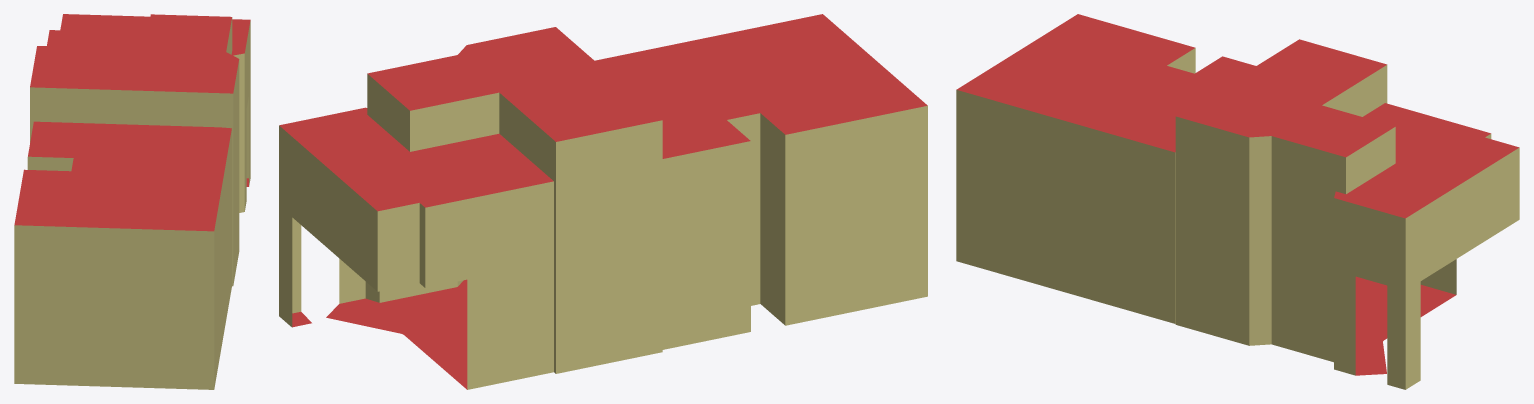
3 renders of one model, left to right at view 1: azimuth 30°, elevation 25°; view 2: azimuth 150°, elevation 25°; view 3: azimuth 270°, elevation 25°, orthographic. The views are drawn at different scales.
Visible parts, largest first — view 1: group_7, group_6, group_3, group_4; view 2: group_7, group_6, group_4, group_3, group_5, group_8; view 3: group_7, group_4, group_6, group_3, group_8, group_5.
Boxes of the visible parts, left/top/right/bottom form: group_7: left=14, top=20, right=250, bottom=389; group_6: left=14, top=14, right=250, bottom=231; group_3: left=30, top=14, right=239, bottom=93; group_4: left=30, top=17, right=239, bottom=286; group_7: left=279, top=105, right=927, bottom=389; group_6: left=279, top=14, right=927, bottom=211; group_4: left=367, top=74, right=662, bottom=373; group_3: left=367, top=27, right=662, bottom=141; group_5: left=367, top=279, right=467, bottom=342; group_8: left=292, top=298, right=467, bottom=389; group_7: left=956, top=48, right=1519, bottom=389; group_4: left=1175, top=65, right=1395, bottom=362; group_6: left=956, top=14, right=1519, bottom=218; group_3: left=1176, top=39, right=1395, bottom=157; group_8: left=1355, top=281, right=1455, bottom=375; group_5: left=1355, top=276, right=1387, bottom=359.
Bounding box in the file's own units: 31.64 × 36.82 × 15.03.
